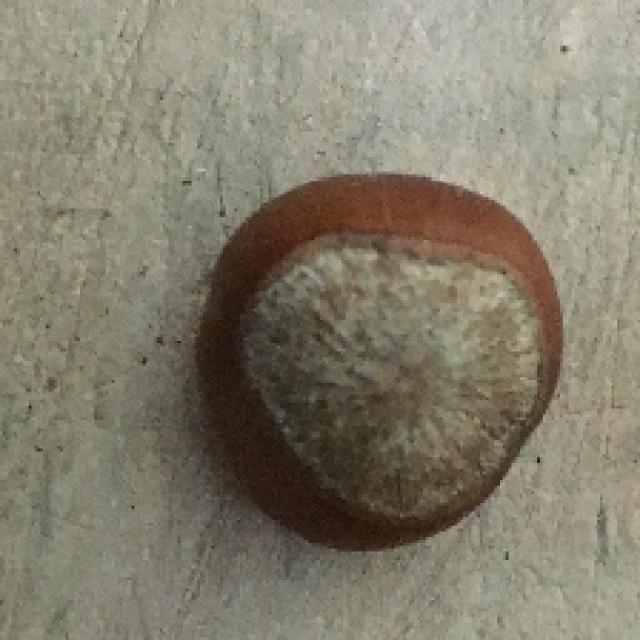qualityHazelnut: (192, 170, 558, 550)
